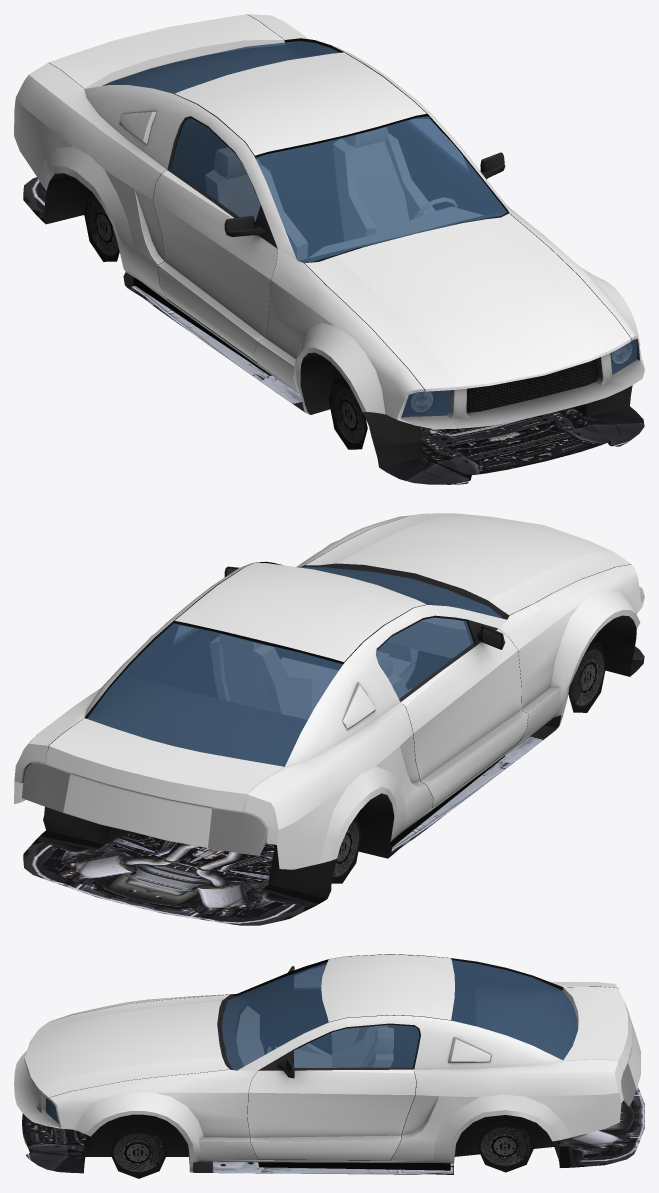
The model's file is Sport_03.FBX.
The picture shows the model from 3 angles, top to bottom: view 1: azimuth 30°, elevation 25°; view 2: azimuth 150°, elevation 25°; view 3: azimuth 270°, elevation 25°; orthographic projection. The views are drawn at different scales.
Visible parts, largest first — view 1: Sport_03_Body, Sport_03_Hood, Sport_03_Glass_F, Sport_03_Roof, Sport_03_Door_R, Sport_03_Dashboard, Sport_03_Trunk, Sport_03_Glass_R, Sport_03_Door_L, Sport_03_Glass_B, Sport_03_LightGlass_R, Sport_03_Glass_L; view 2: Sport_03_Body, Sport_03_Glass_B, Sport_03_Trunk, Sport_03_Hood, Sport_03_Roof, Sport_03_Door_R, Sport_03_Dashboard, Sport_03_Glass_R, Sport_03_Taillights, Sport_03_Door_L, Sport_03_Glass_F; view 3: Sport_03_Body, Sport_03_Door_L, Sport_03_Hood, Sport_03_Roof, Sport_03_Glass_B, Sport_03_Glass_F, Sport_03_Trunk, Sport_03_Glass_L, Sport_03_Dashboard, Sport_03_Door_R, Sport_03_Glass_R, Sport_03_Taillights.
Part boxes in pixels (x1=…): Sport_03_Body: x1=14, y1=14, x2=644, y2=484; Sport_03_Hood: x1=304, y1=213, x2=631, y2=391; Sport_03_Glass_F: x1=255, y1=116, x2=506, y2=262; Sport_03_Roof: x1=174, y1=52, x2=428, y2=158; Sport_03_Door_R: x1=153, y1=168, x2=277, y2=361; Sport_03_Dashboard: x1=205, y1=127, x2=483, y2=260; Sport_03_Trunk: x1=48, y1=14, x2=284, y2=88; Sport_03_Glass_R: x1=171, y1=118, x2=260, y2=221; Sport_03_Door_L: x1=400, y1=121, x2=505, y2=214; Sport_03_Glass_B: x1=102, y1=41, x2=339, y2=93; Sport_03_LightGlass_R: x1=401, y1=390, x2=450, y2=416; Sport_03_Glass_L: x1=409, y1=119, x2=467, y2=169; Sport_03_Body: x1=14, y1=514, x2=644, y2=925; Sport_03_Glass_B: x1=87, y1=623, x2=342, y2=766; Sport_03_Trunk: x1=45, y1=718, x2=283, y2=847; Sport_03_Hood: x1=305, y1=513, x2=631, y2=615; Sport_03_Roof: x1=174, y1=562, x2=426, y2=664; Sport_03_Door_R: x1=399, y1=620, x2=528, y2=807; Sport_03_Dashboard: x1=210, y1=618, x2=470, y2=719; Sport_03_Glass_R: x1=376, y1=617, x2=473, y2=698; Sport_03_Taillights: x1=22, y1=762, x2=267, y2=855; Sport_03_Door_L: x1=158, y1=566, x2=239, y2=697; Sport_03_Glass_F: x1=297, y1=567, x2=502, y2=618; Sport_03_Body: x1=14, y1=954, x2=644, y2=1178; Sport_03_Door_L: x1=247, y1=1049, x2=416, y2=1160; Sport_03_Hood: x1=24, y1=994, x2=229, y2=1098; Sport_03_Roof: x1=321, y1=954, x2=454, y2=1022; Sport_03_Glass_B: x1=451, y1=960, x2=577, y2=1059; Sport_03_Glass_F: x1=222, y1=962, x2=328, y2=1070; Sport_03_Trunk: x1=562, y1=986, x2=640, y2=1088; Sport_03_Glass_L: x1=293, y1=1025, x2=419, y2=1067; Sport_03_Dashboard: x1=236, y1=1006, x2=393, y2=1067; Sport_03_Door_R: x1=251, y1=966, x2=407, y2=1055; Sport_03_Glass_R: x1=294, y1=965, x2=325, y2=987; Sport_03_Taillights: x1=621, y1=1063, x2=636, y2=1106.
Bounding box in the file's own units: 213 × 141 × 526.
